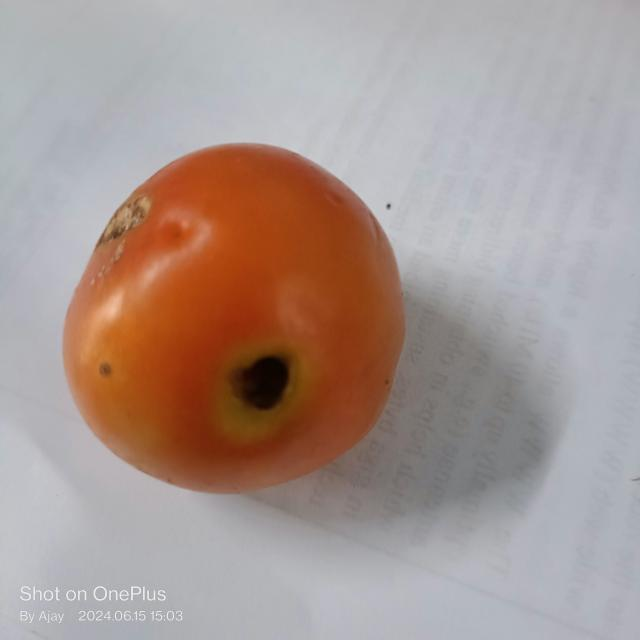fruitworm_bore: (228, 346, 296, 421)
